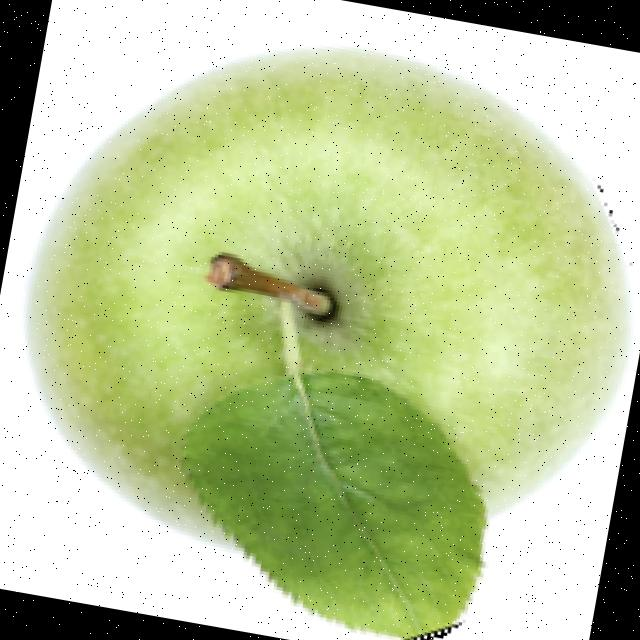apple: (19, 43, 633, 640)
